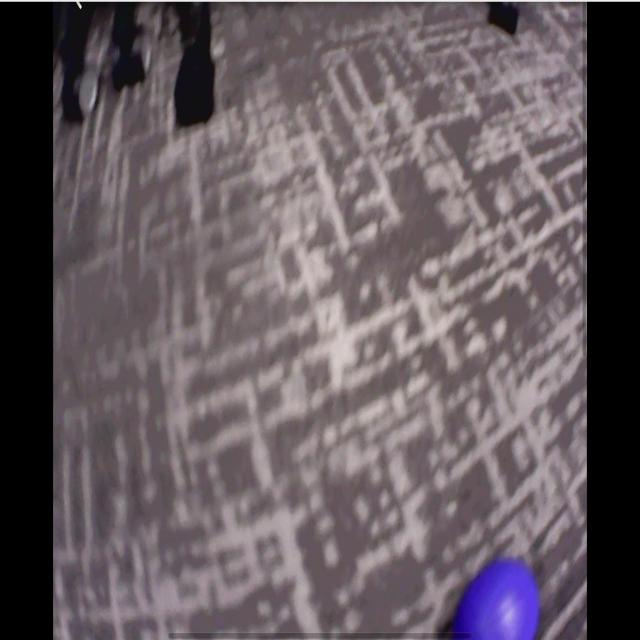ball: (458, 560, 541, 640)
